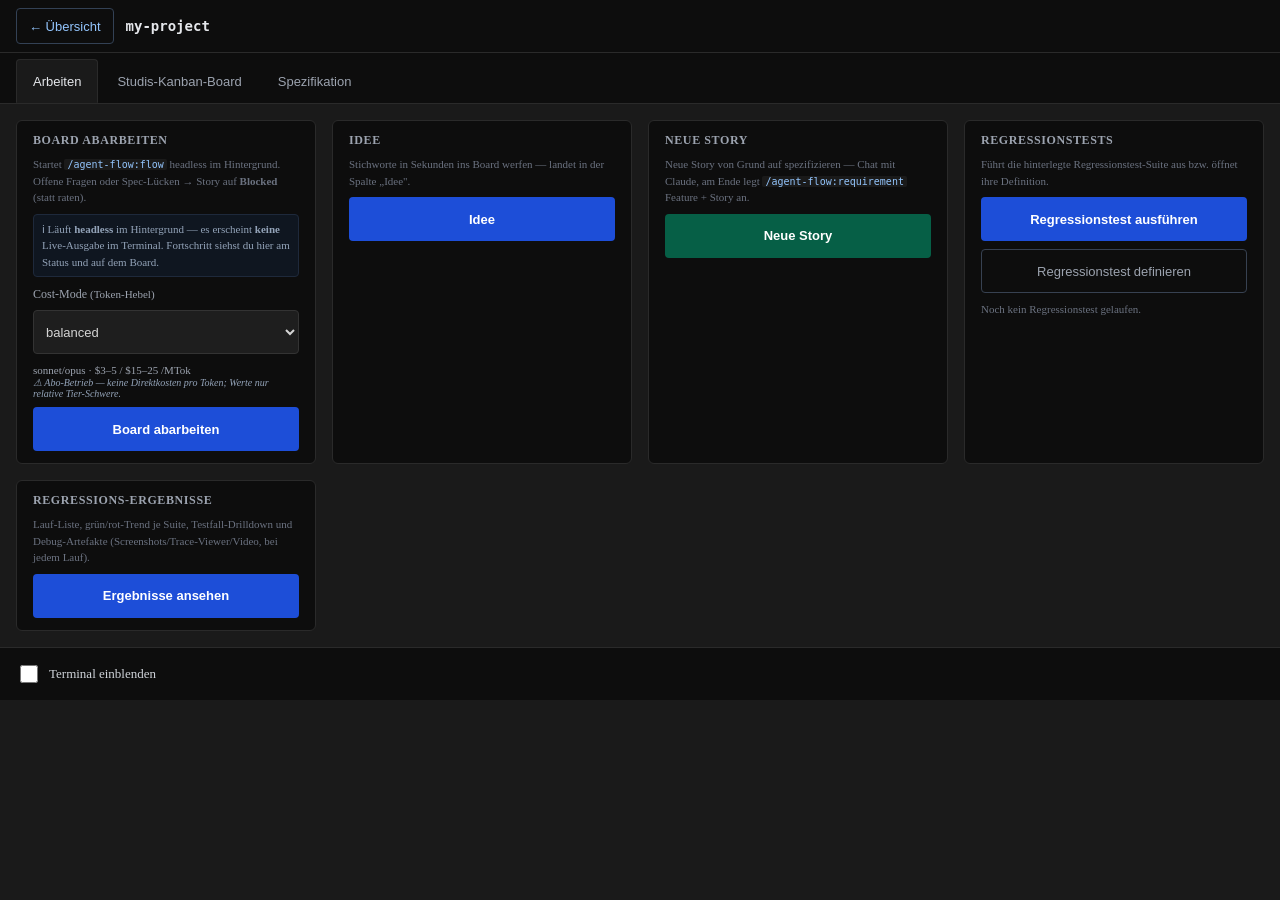
it: CockpitView — AC4 (ideen-inbox): „Idee"-Button im Reiter Arbeiten › clicking "Idee" opens the Quick-Capture-Modal (role=dialog, aria-modal)
Click the button with test id "idea-capture-btn": (482, 219) top-left (349, 197), bottom-right (615, 241)
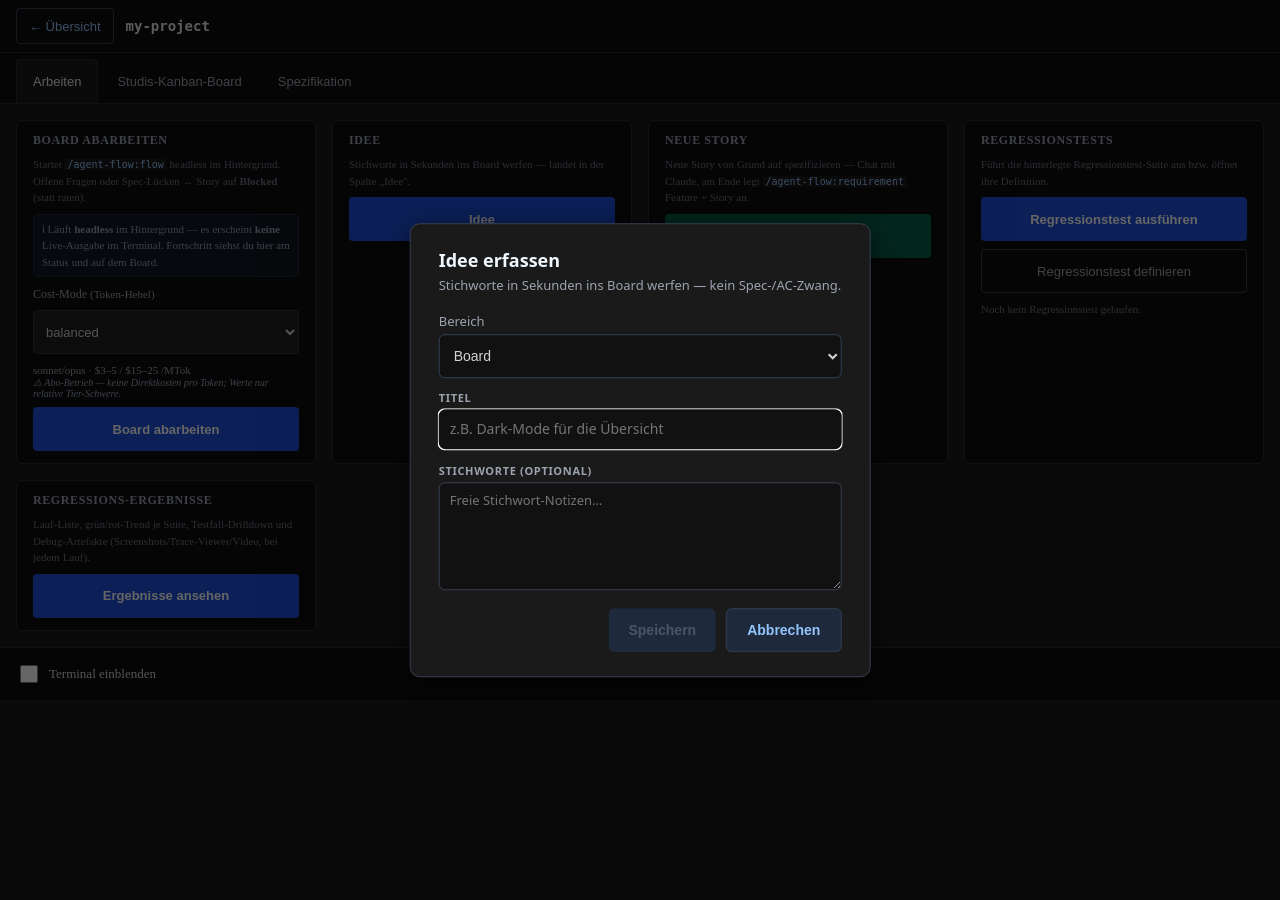
expect the dialog with test id "idea-capture-modal" is shown: met, box top-left (410, 223), bottom-right (870, 677)
